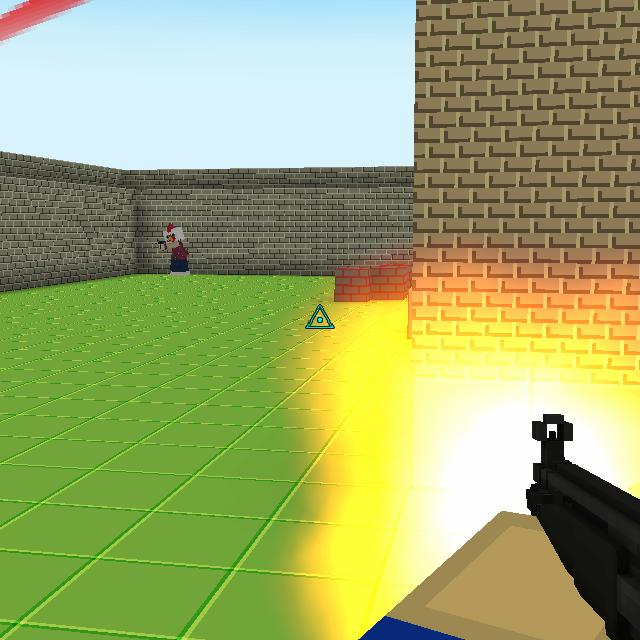enemy: (156, 223, 192, 276)
